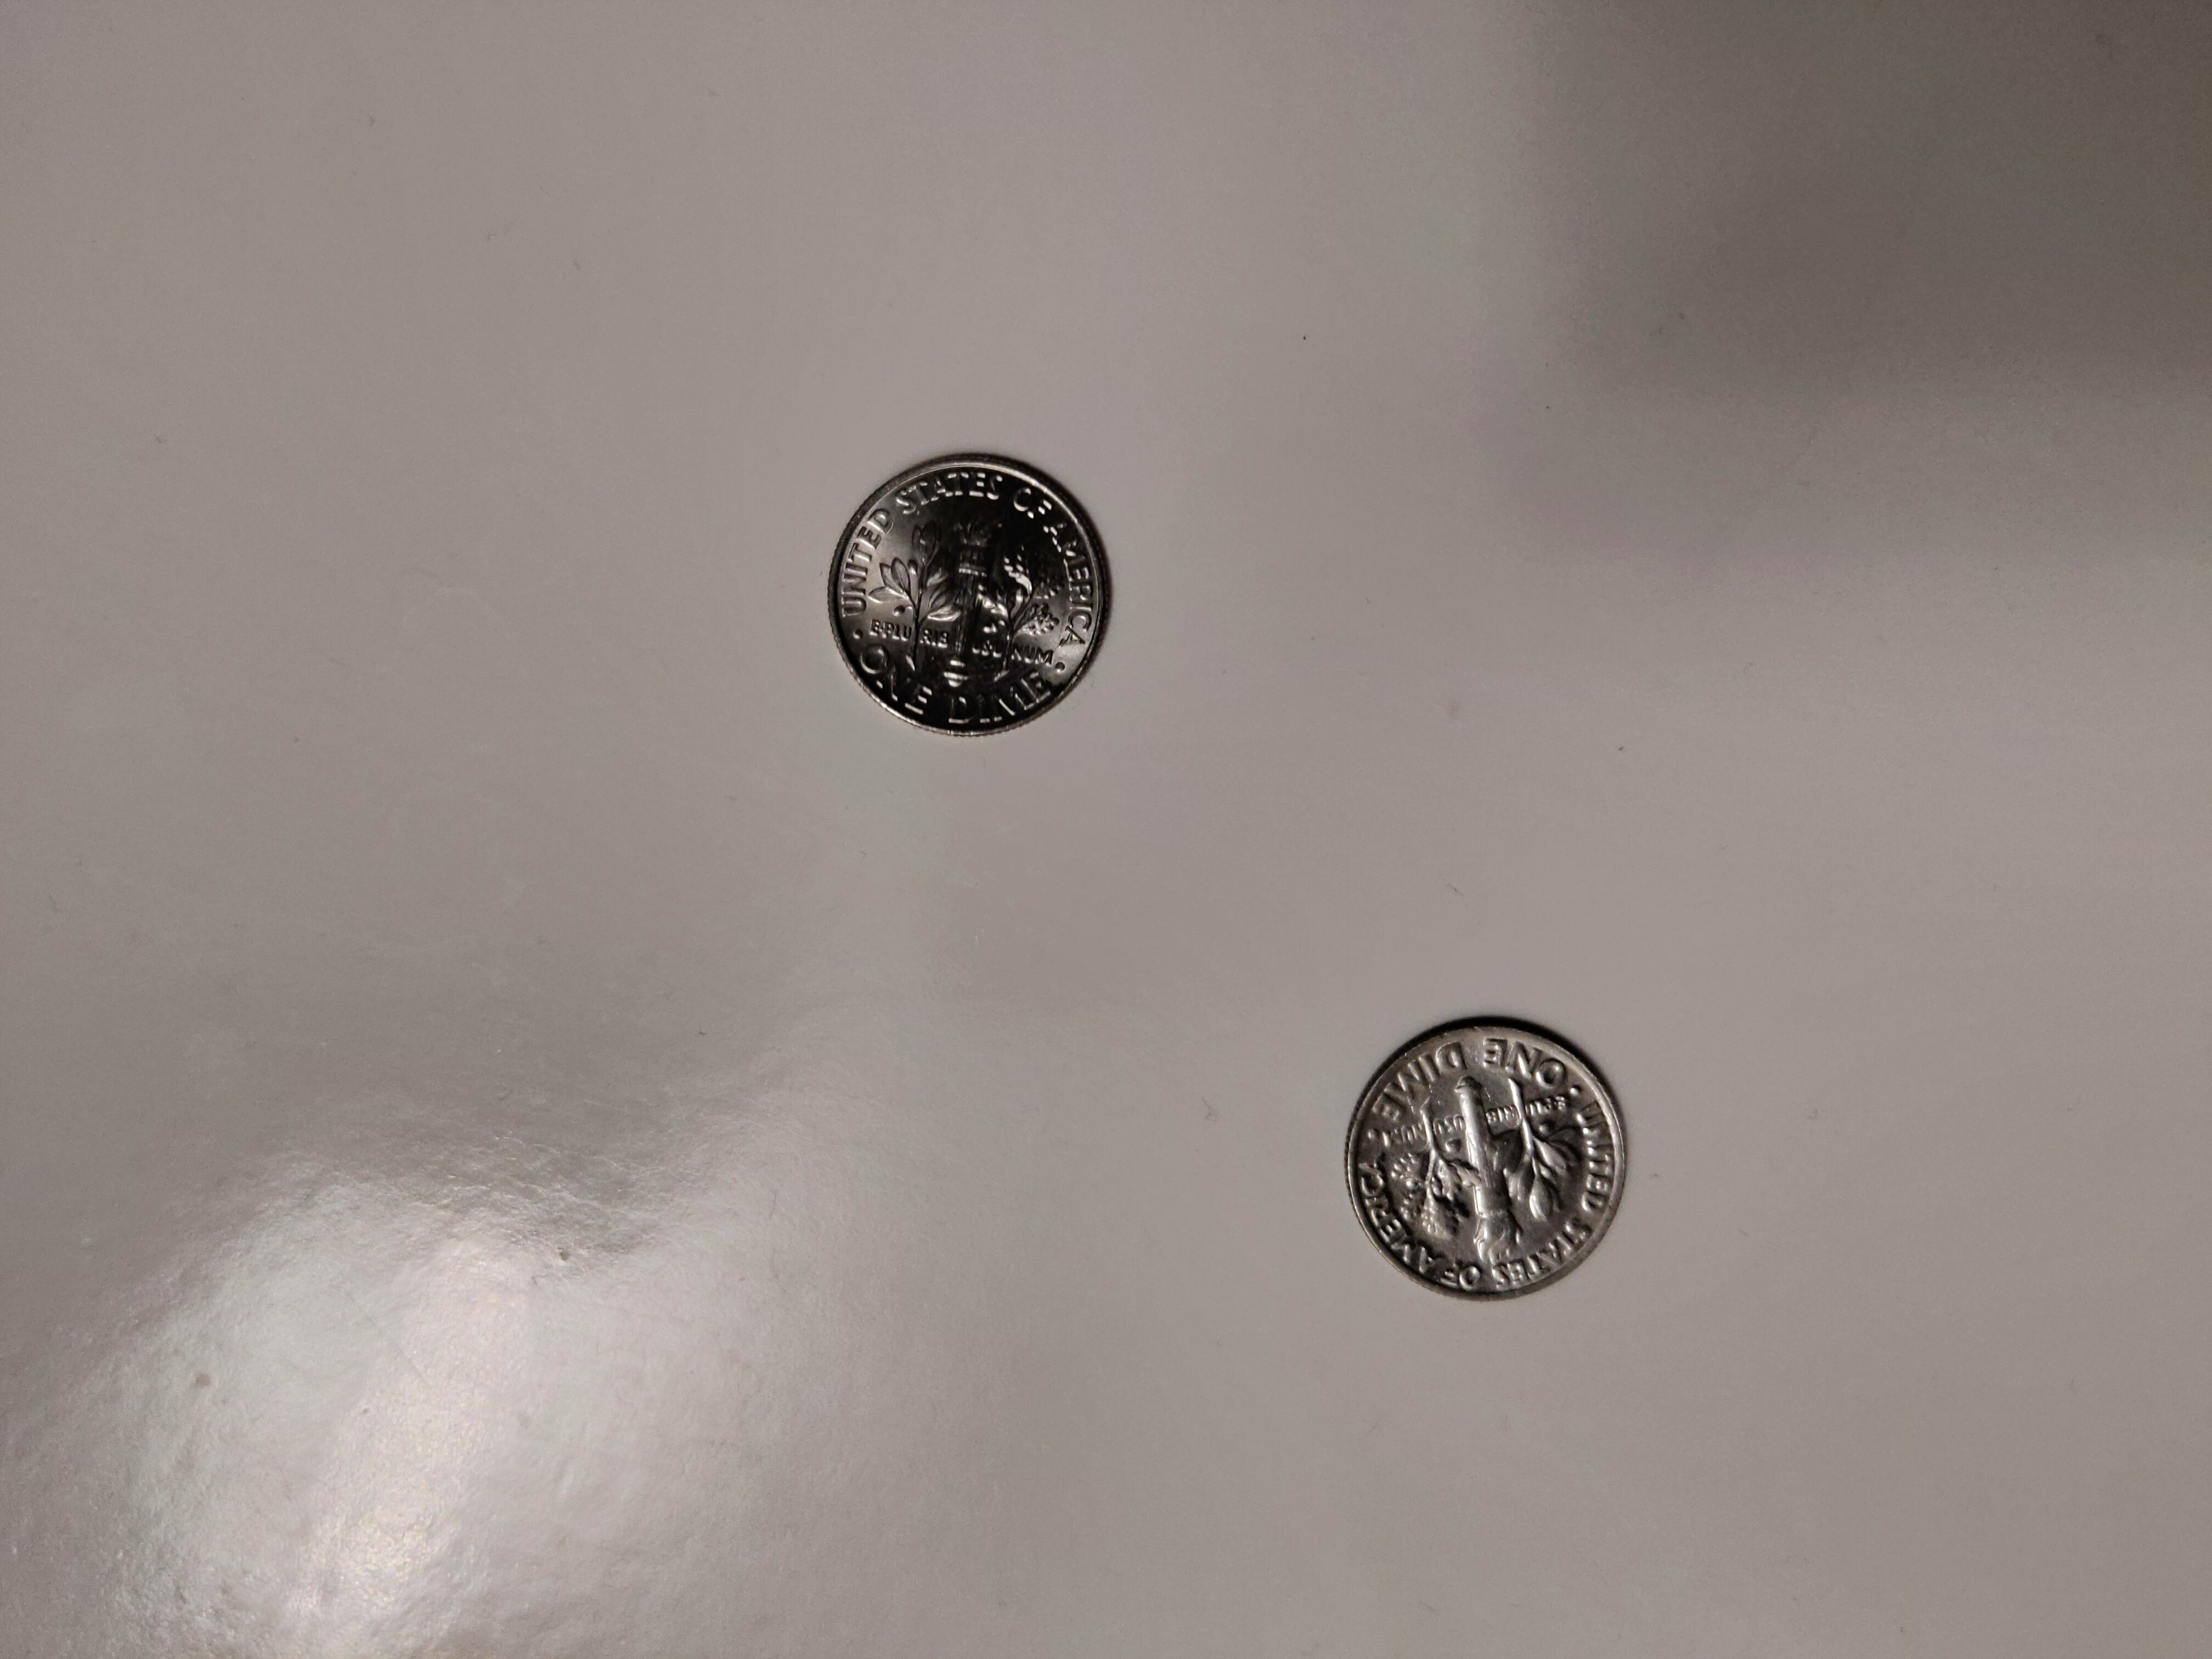Dime: (1339, 1009, 1630, 1302), (822, 448, 1111, 735)
